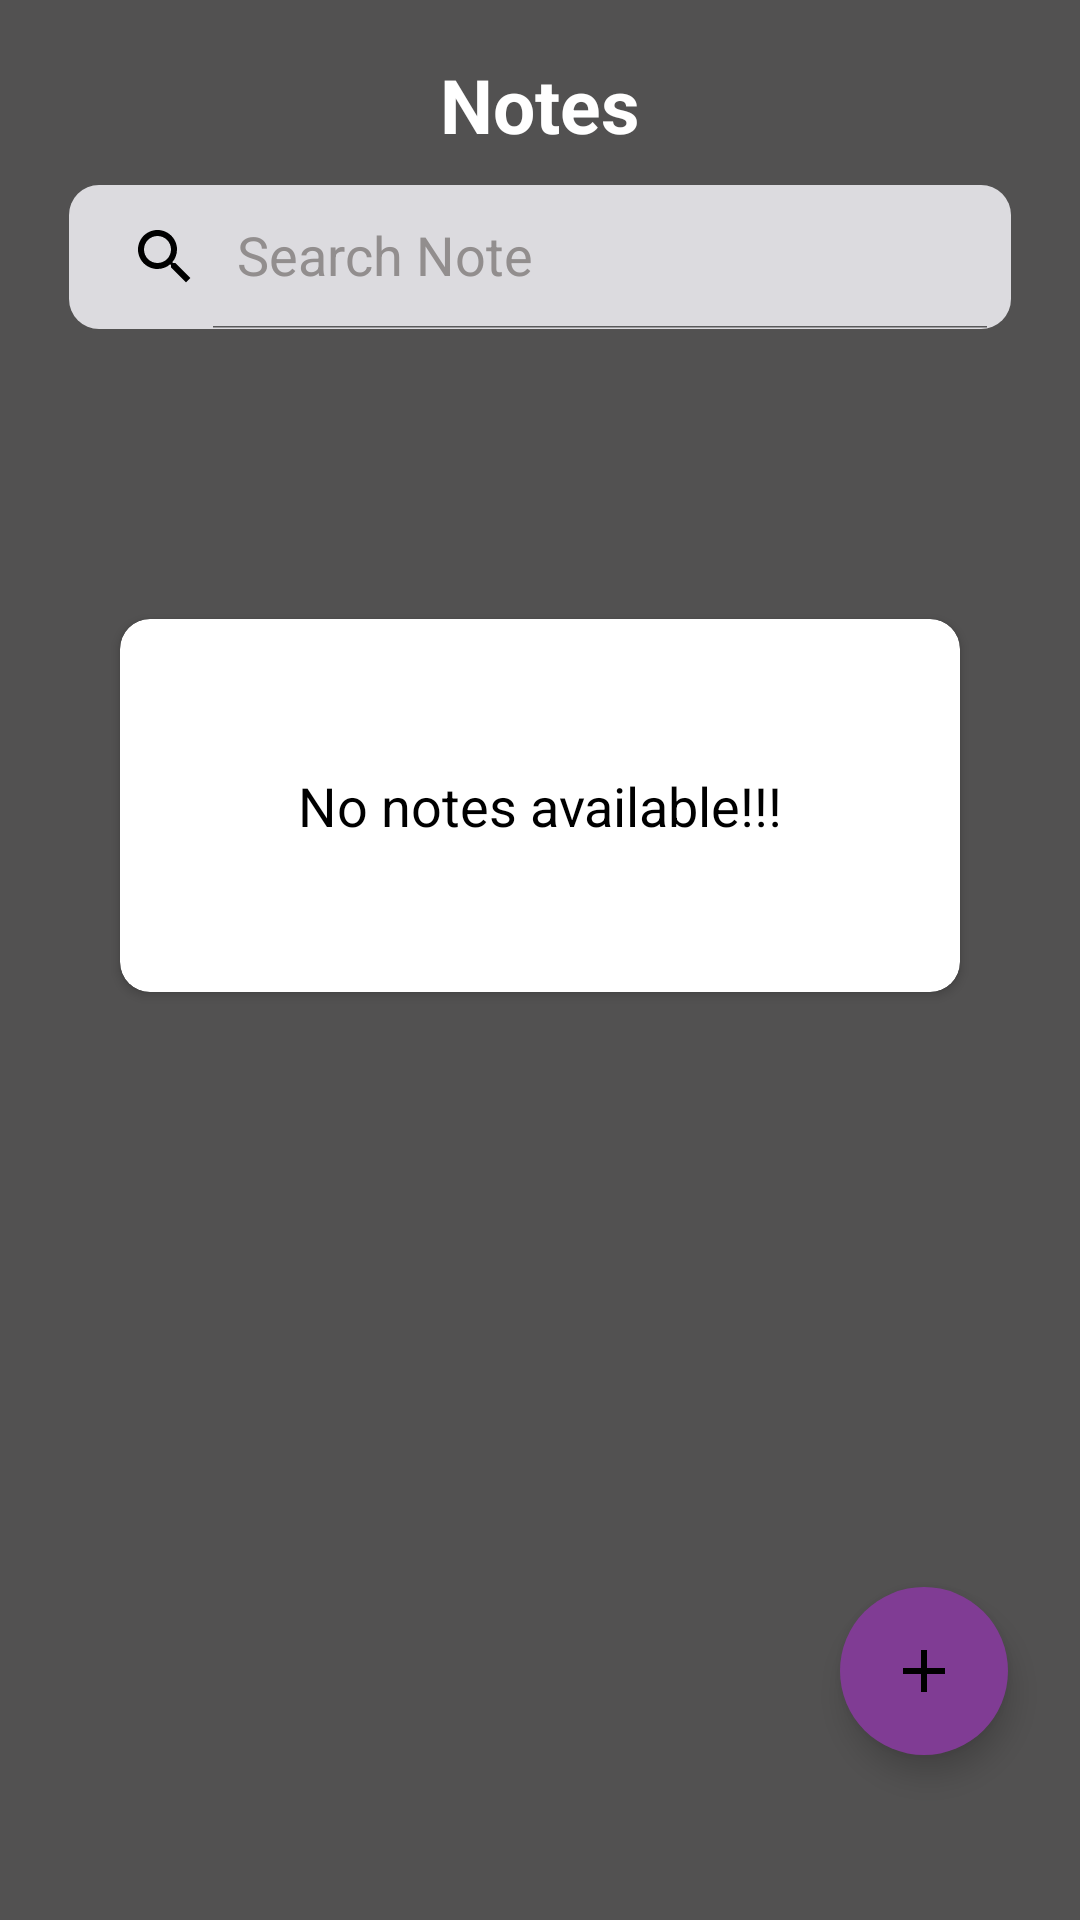

Icon click points for this 1080×1920 phone screenshot, format (x=x, y=y):
add: (x=924, y=1671)
